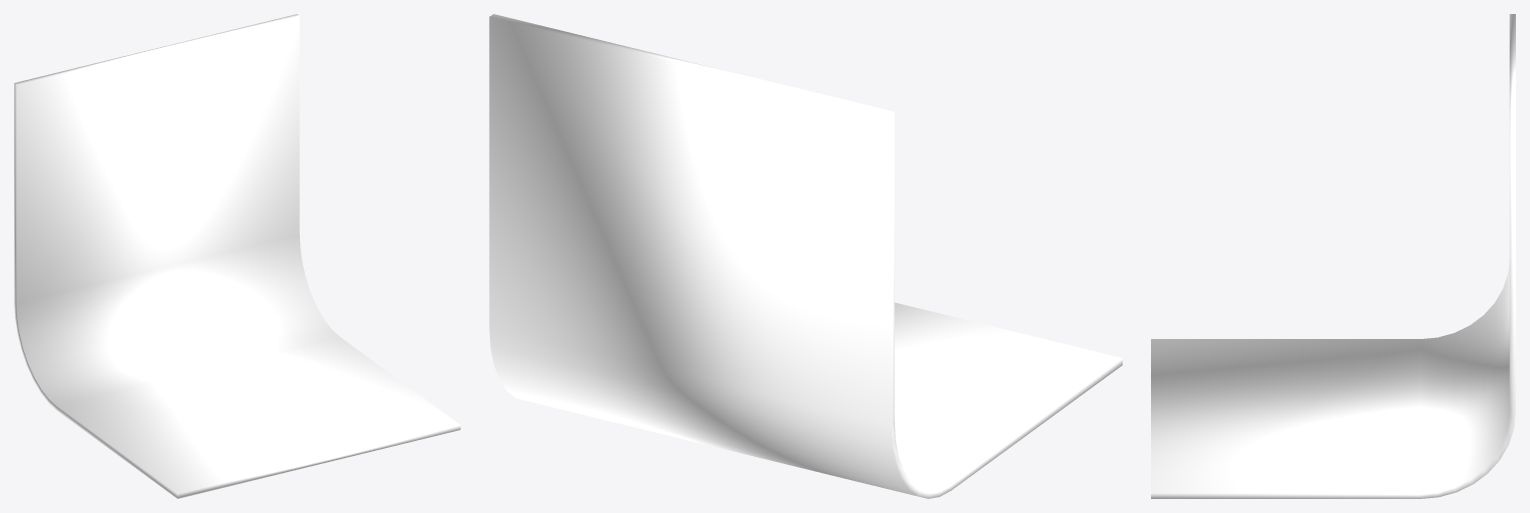
File: BackDropWhite.glb
3 views of the same model, side by side, from view 1: azimuth 30°, elevation 25°; view 2: azimuth 150°, elevation 25°; view 3: azimuth 270°, elevation 25° (orthographic). The views are drawn at different scales.
Visible parts, largest first — view 1: BackDropWhite; view 2: BackDropWhite; view 3: BackDropWhite.
Part boxes in pixels (x1=…): BackDropWhite: x1=14, y1=14, x2=460, y2=498; BackDropWhite: x1=489, y1=14, x2=1122, y2=498; BackDropWhite: x1=1151, y1=14, x2=1515, y2=498.
Size of the model in its own units: 4 by 4 by 4.
Materials: 1 (1 with a texture image).
